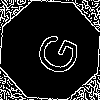G: (25, 25, 83, 80)
